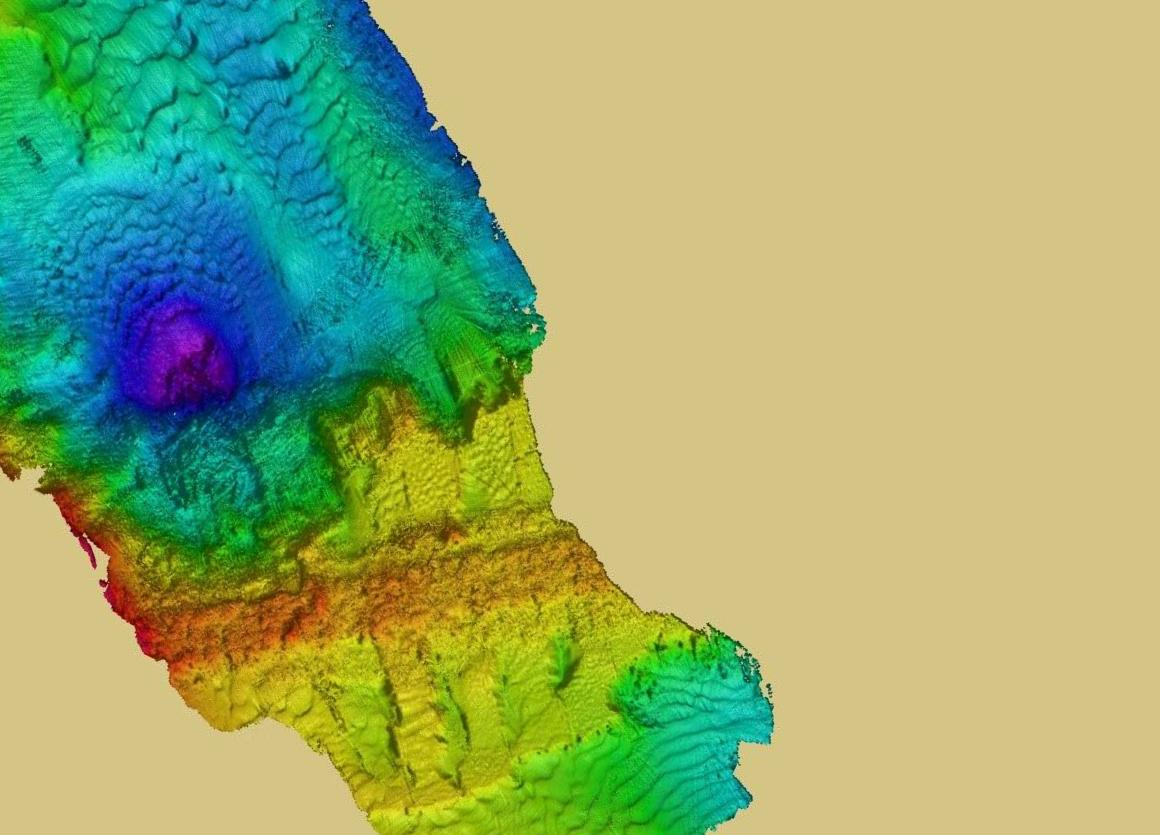Dune: (97, 13, 340, 228)
Scarp: (5, 427, 131, 623)
Scour pit: (86, 295, 320, 412)
Submerged dike: (114, 544, 625, 671)
